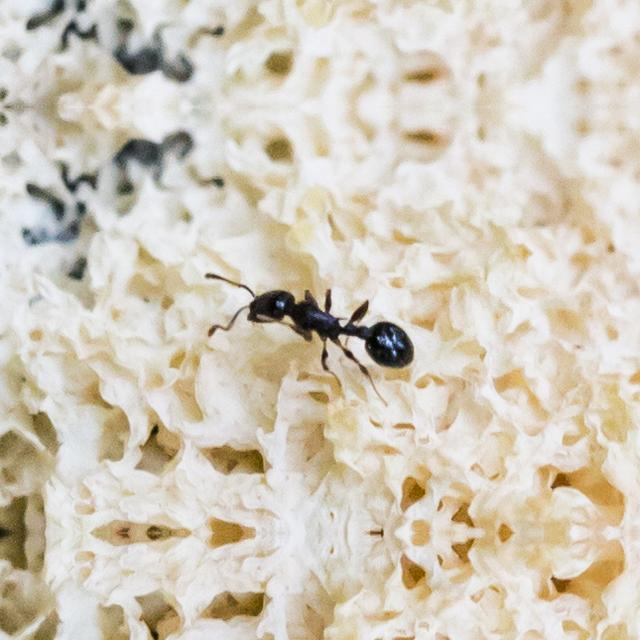Temnothorax: (196, 249, 428, 375)
